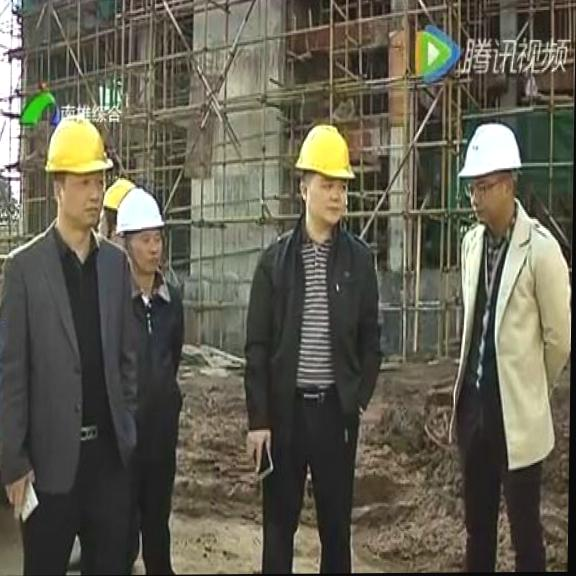no_safety_vest: (0, 213, 138, 499), (240, 213, 388, 444), (441, 207, 573, 464), (119, 262, 191, 473)
